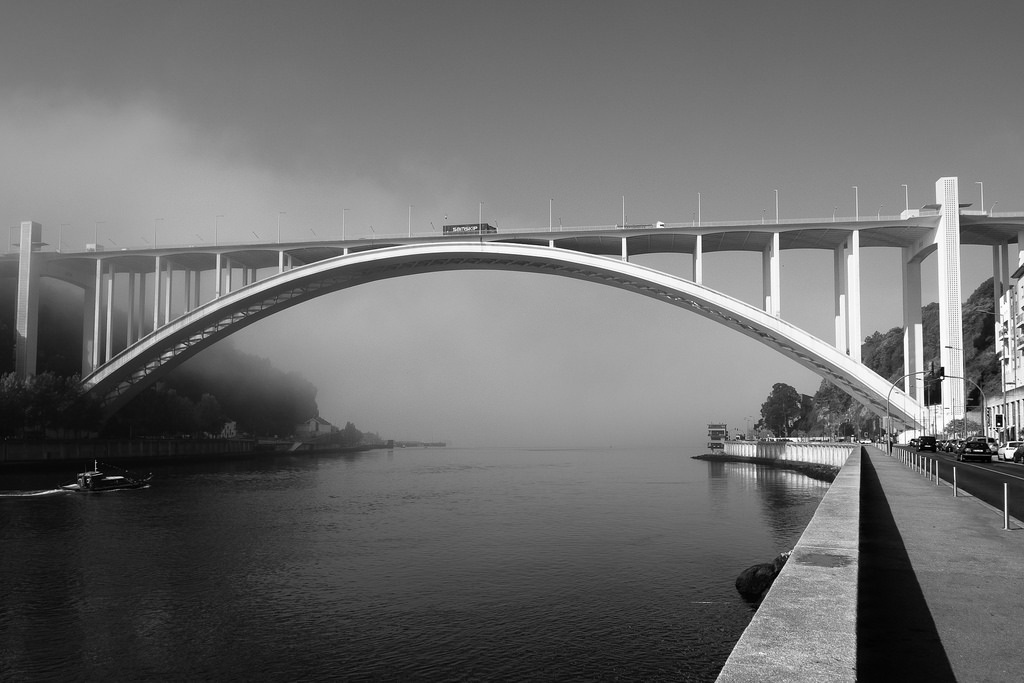arrabida: (0, 175, 1023, 451)
